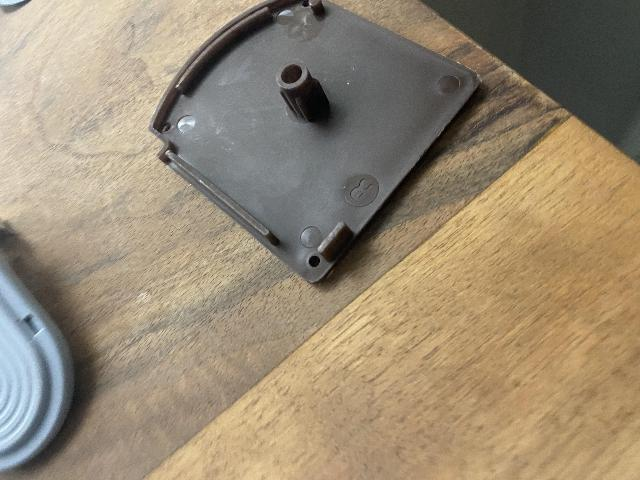Plastik: (149, 8, 489, 275), (0, 216, 73, 473)
